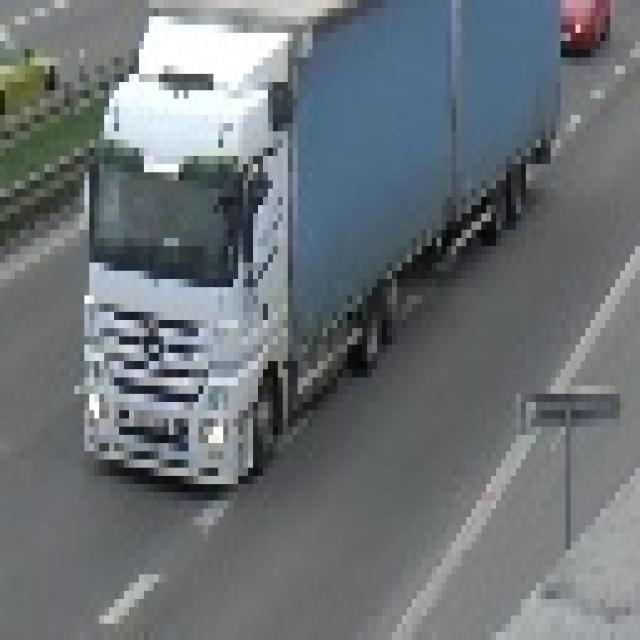TRUCK: (80, 1, 560, 498)
